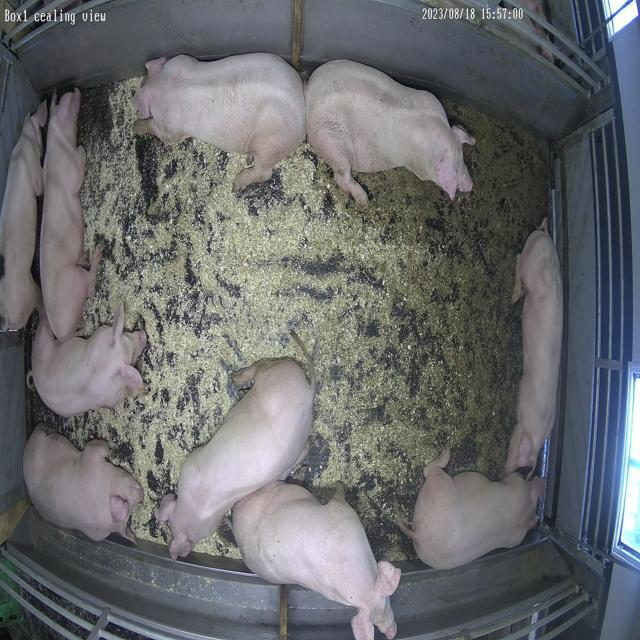Dirt: (330, 104, 549, 478)
Pig: (156, 359, 314, 560), (234, 483, 401, 640), (306, 60, 476, 206), (134, 52, 306, 190), (402, 452, 545, 570), (40, 89, 101, 340), (506, 221, 564, 476), (23, 428, 143, 542), (28, 304, 146, 416), (0, 102, 47, 330)
